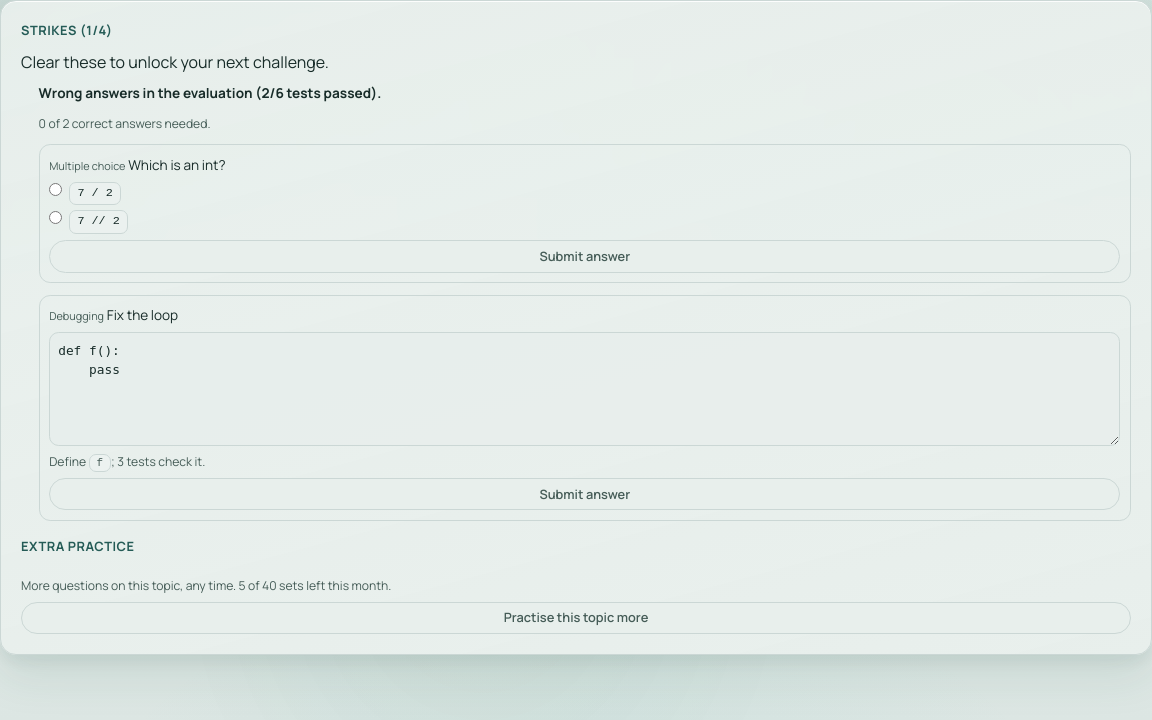
Test: shows open strikes with their clearing questions and answers them
This screenshot has width=1152, height=720.
Check: the text "Wrong answers in the evaluation (2/6 tests passed)." is shown, box [39, 84, 381, 102]
Check: the text "Clear these to unlock your next challenge." is shown, box [21, 51, 329, 73]
Click the radio button labelled "7 / 2". click: (56, 189)
box: [49, 183, 62, 196]
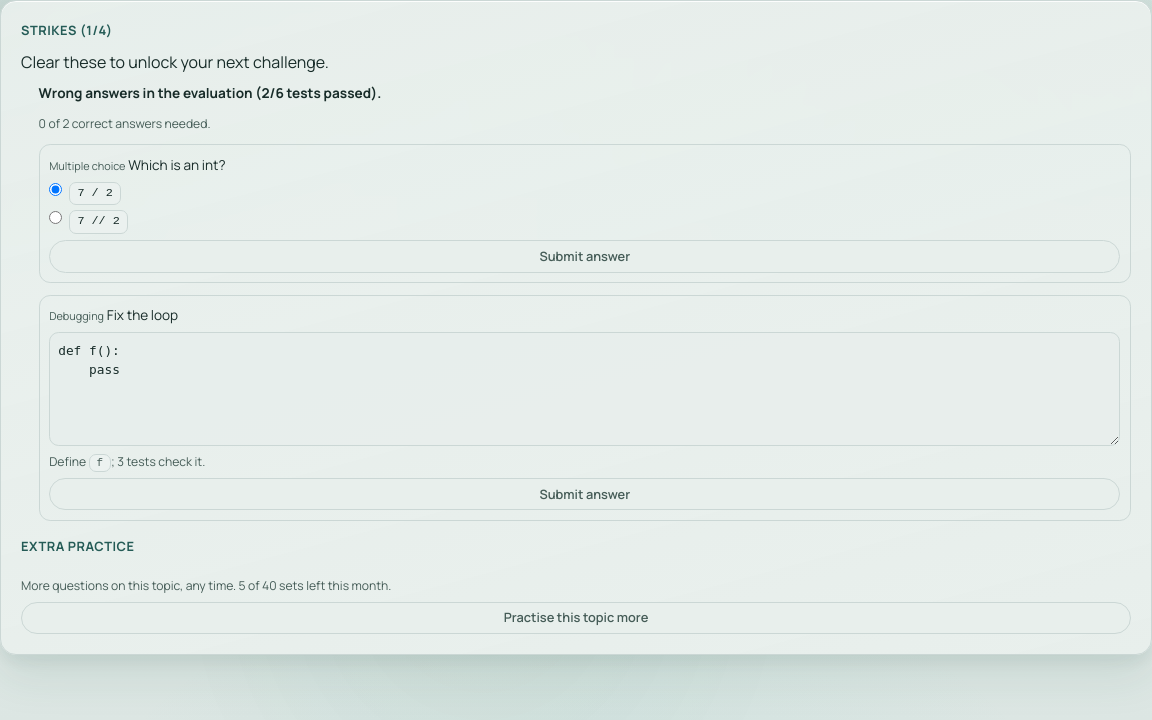
Click the button "Submit answer" below "7 // 2". click: (585, 257)
box: [49, 240, 1120, 273]
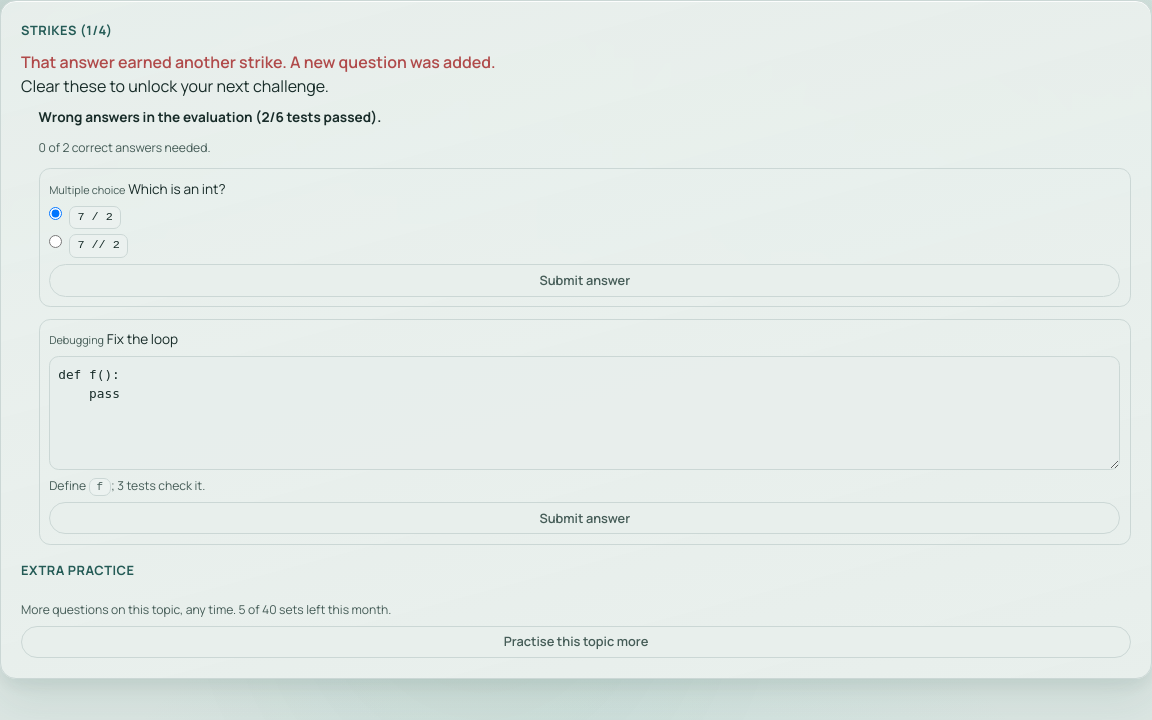
Check: the text "That answer earned another strike. A new question was added." is shown, box [21, 51, 496, 73]
